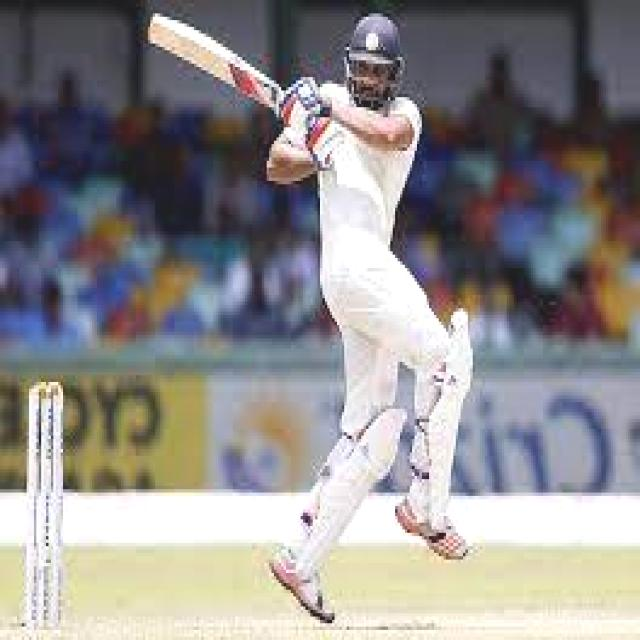toe: (146, 8, 168, 48)
